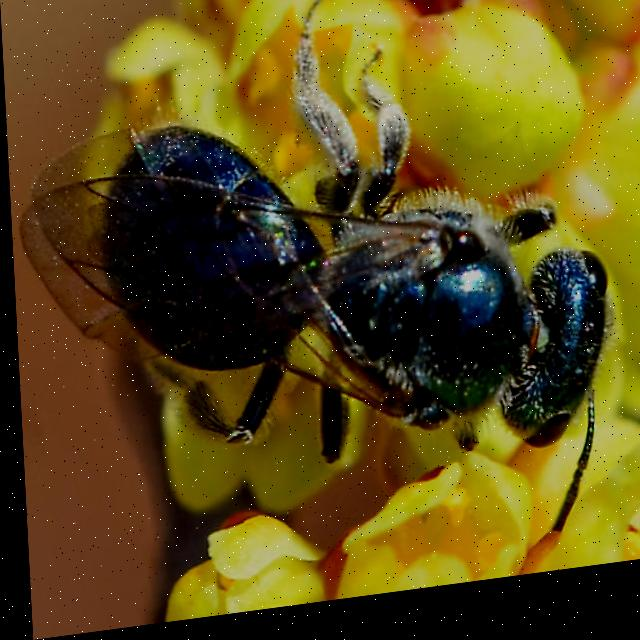Braunsapis: (31, 0, 625, 583)
